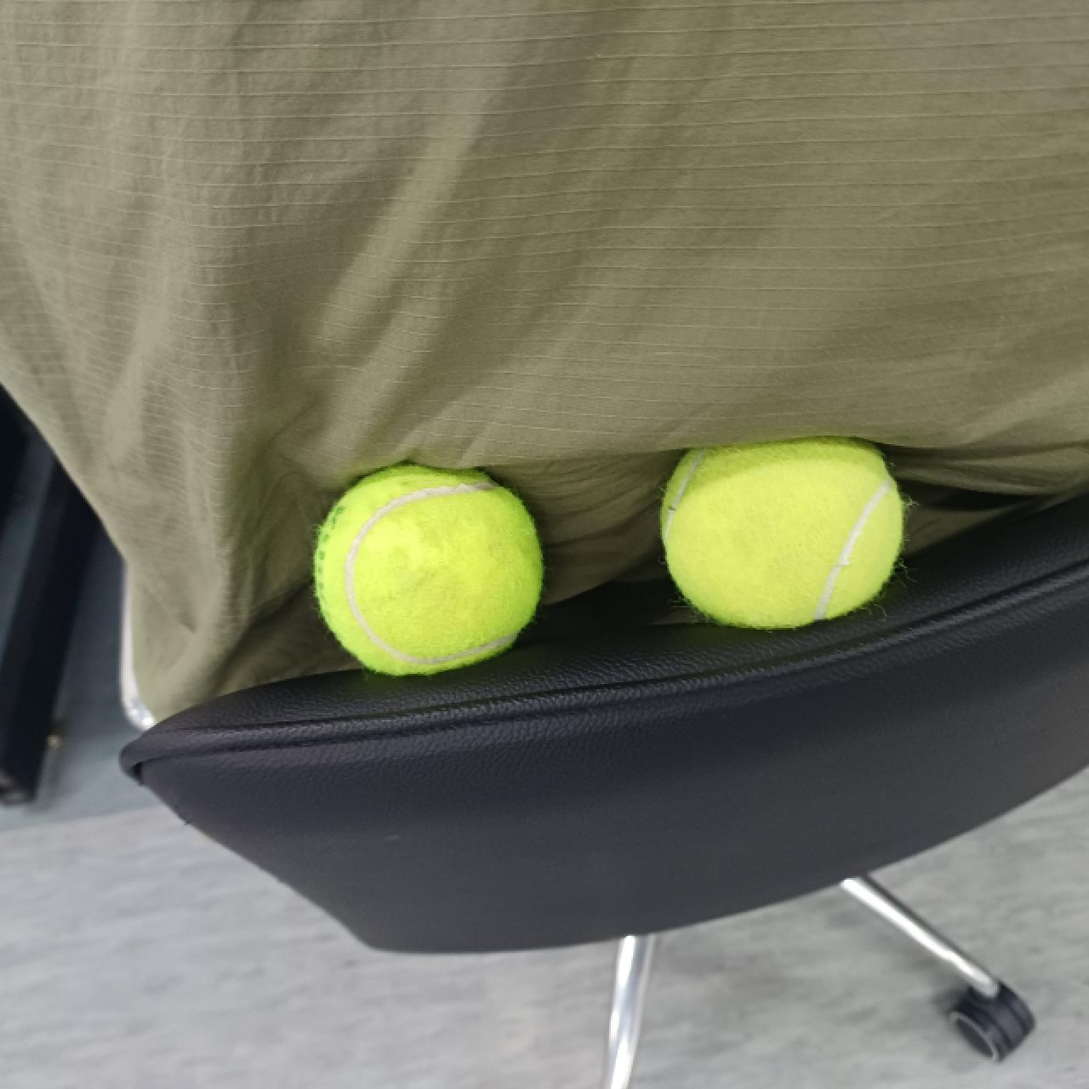tennis-ball: (309, 459, 547, 679), (654, 425, 903, 630)
